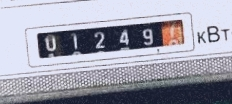0: (43, 32, 58, 52)
1: (68, 30, 79, 50)
2: (92, 29, 106, 50)
4: (117, 27, 129, 46)
7: (165, 19, 178, 39)
9: (140, 25, 154, 47)
screen: (17, 11, 194, 66)
